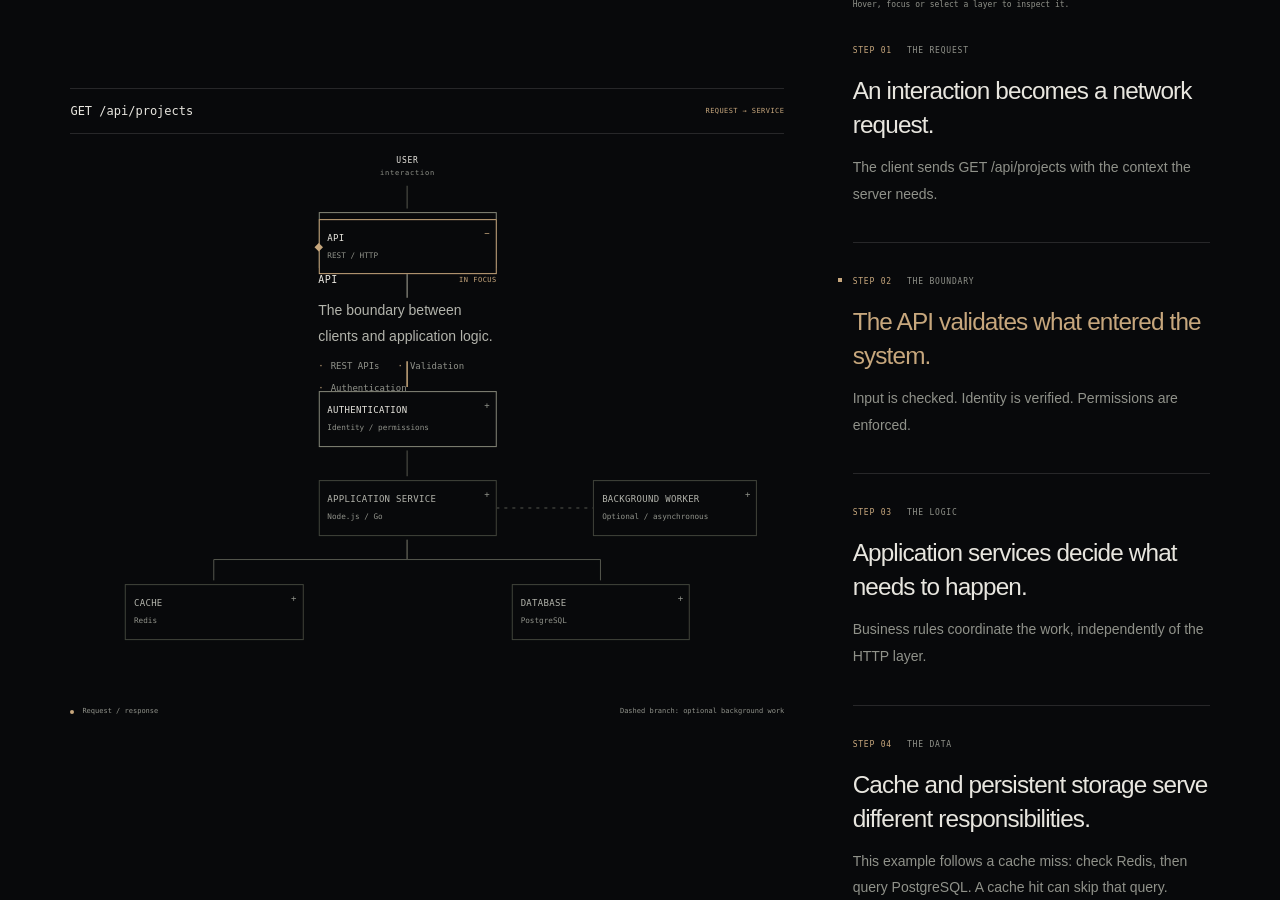
Scenario: Architecture semantics and lifecycle › mobile uses inline node details without pinning or packet movement
The image size is (1280, 900).
(page scrolled)
Click the button "CACHE Redis +": (214, 612) [125,584,303,640]
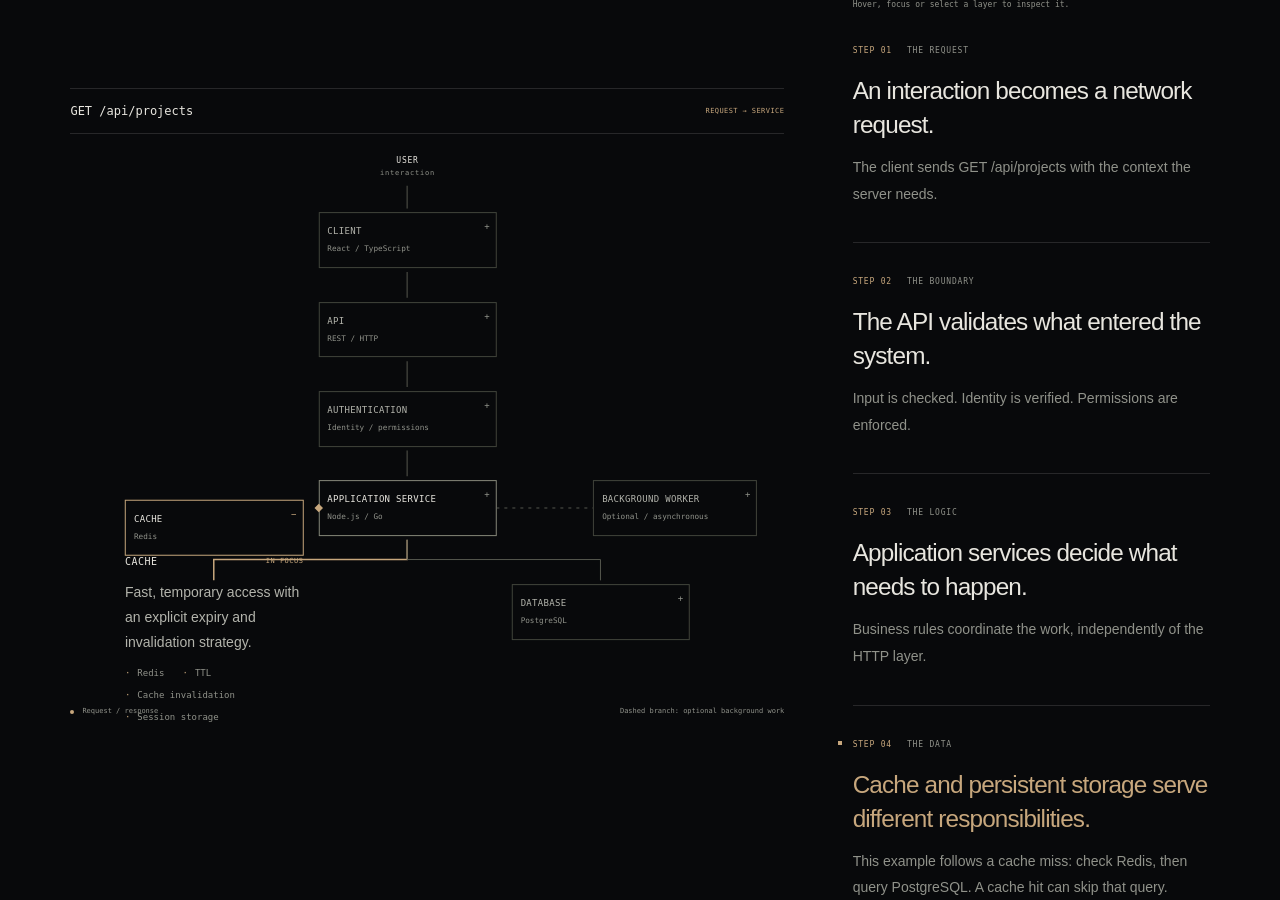
Expected: the button "CACHE Redis −" is expanded, [125,500,303,556]
Expected: the element with id "architecture-details-cache" shows "Cache invalidation", [137,690,235,700]
Expected: the element with id "architecture-details-cache" is shown, [125,556,303,724]
